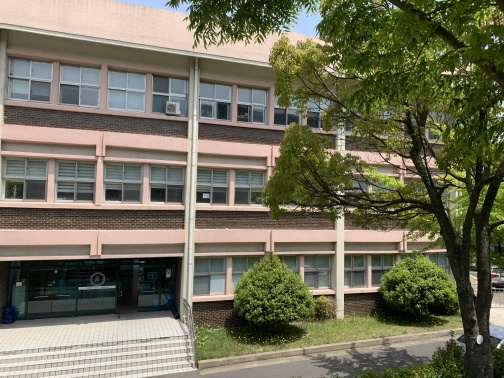College Of Education: (2, 23, 462, 322)
